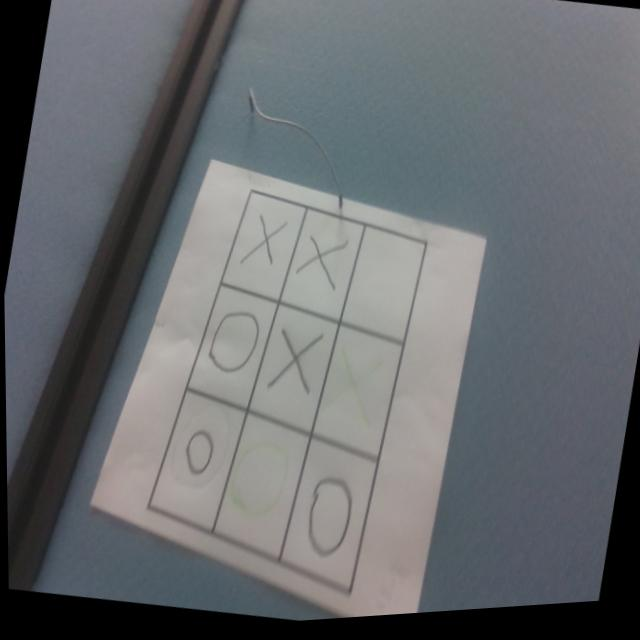null: (336, 226, 426, 351)
o: (225, 437, 290, 525), (299, 474, 357, 566), (204, 306, 262, 380), (179, 427, 216, 481)
table: (123, 164, 438, 626)
x: (321, 345, 387, 438), (266, 328, 320, 402), (291, 235, 345, 297), (238, 214, 286, 275)
